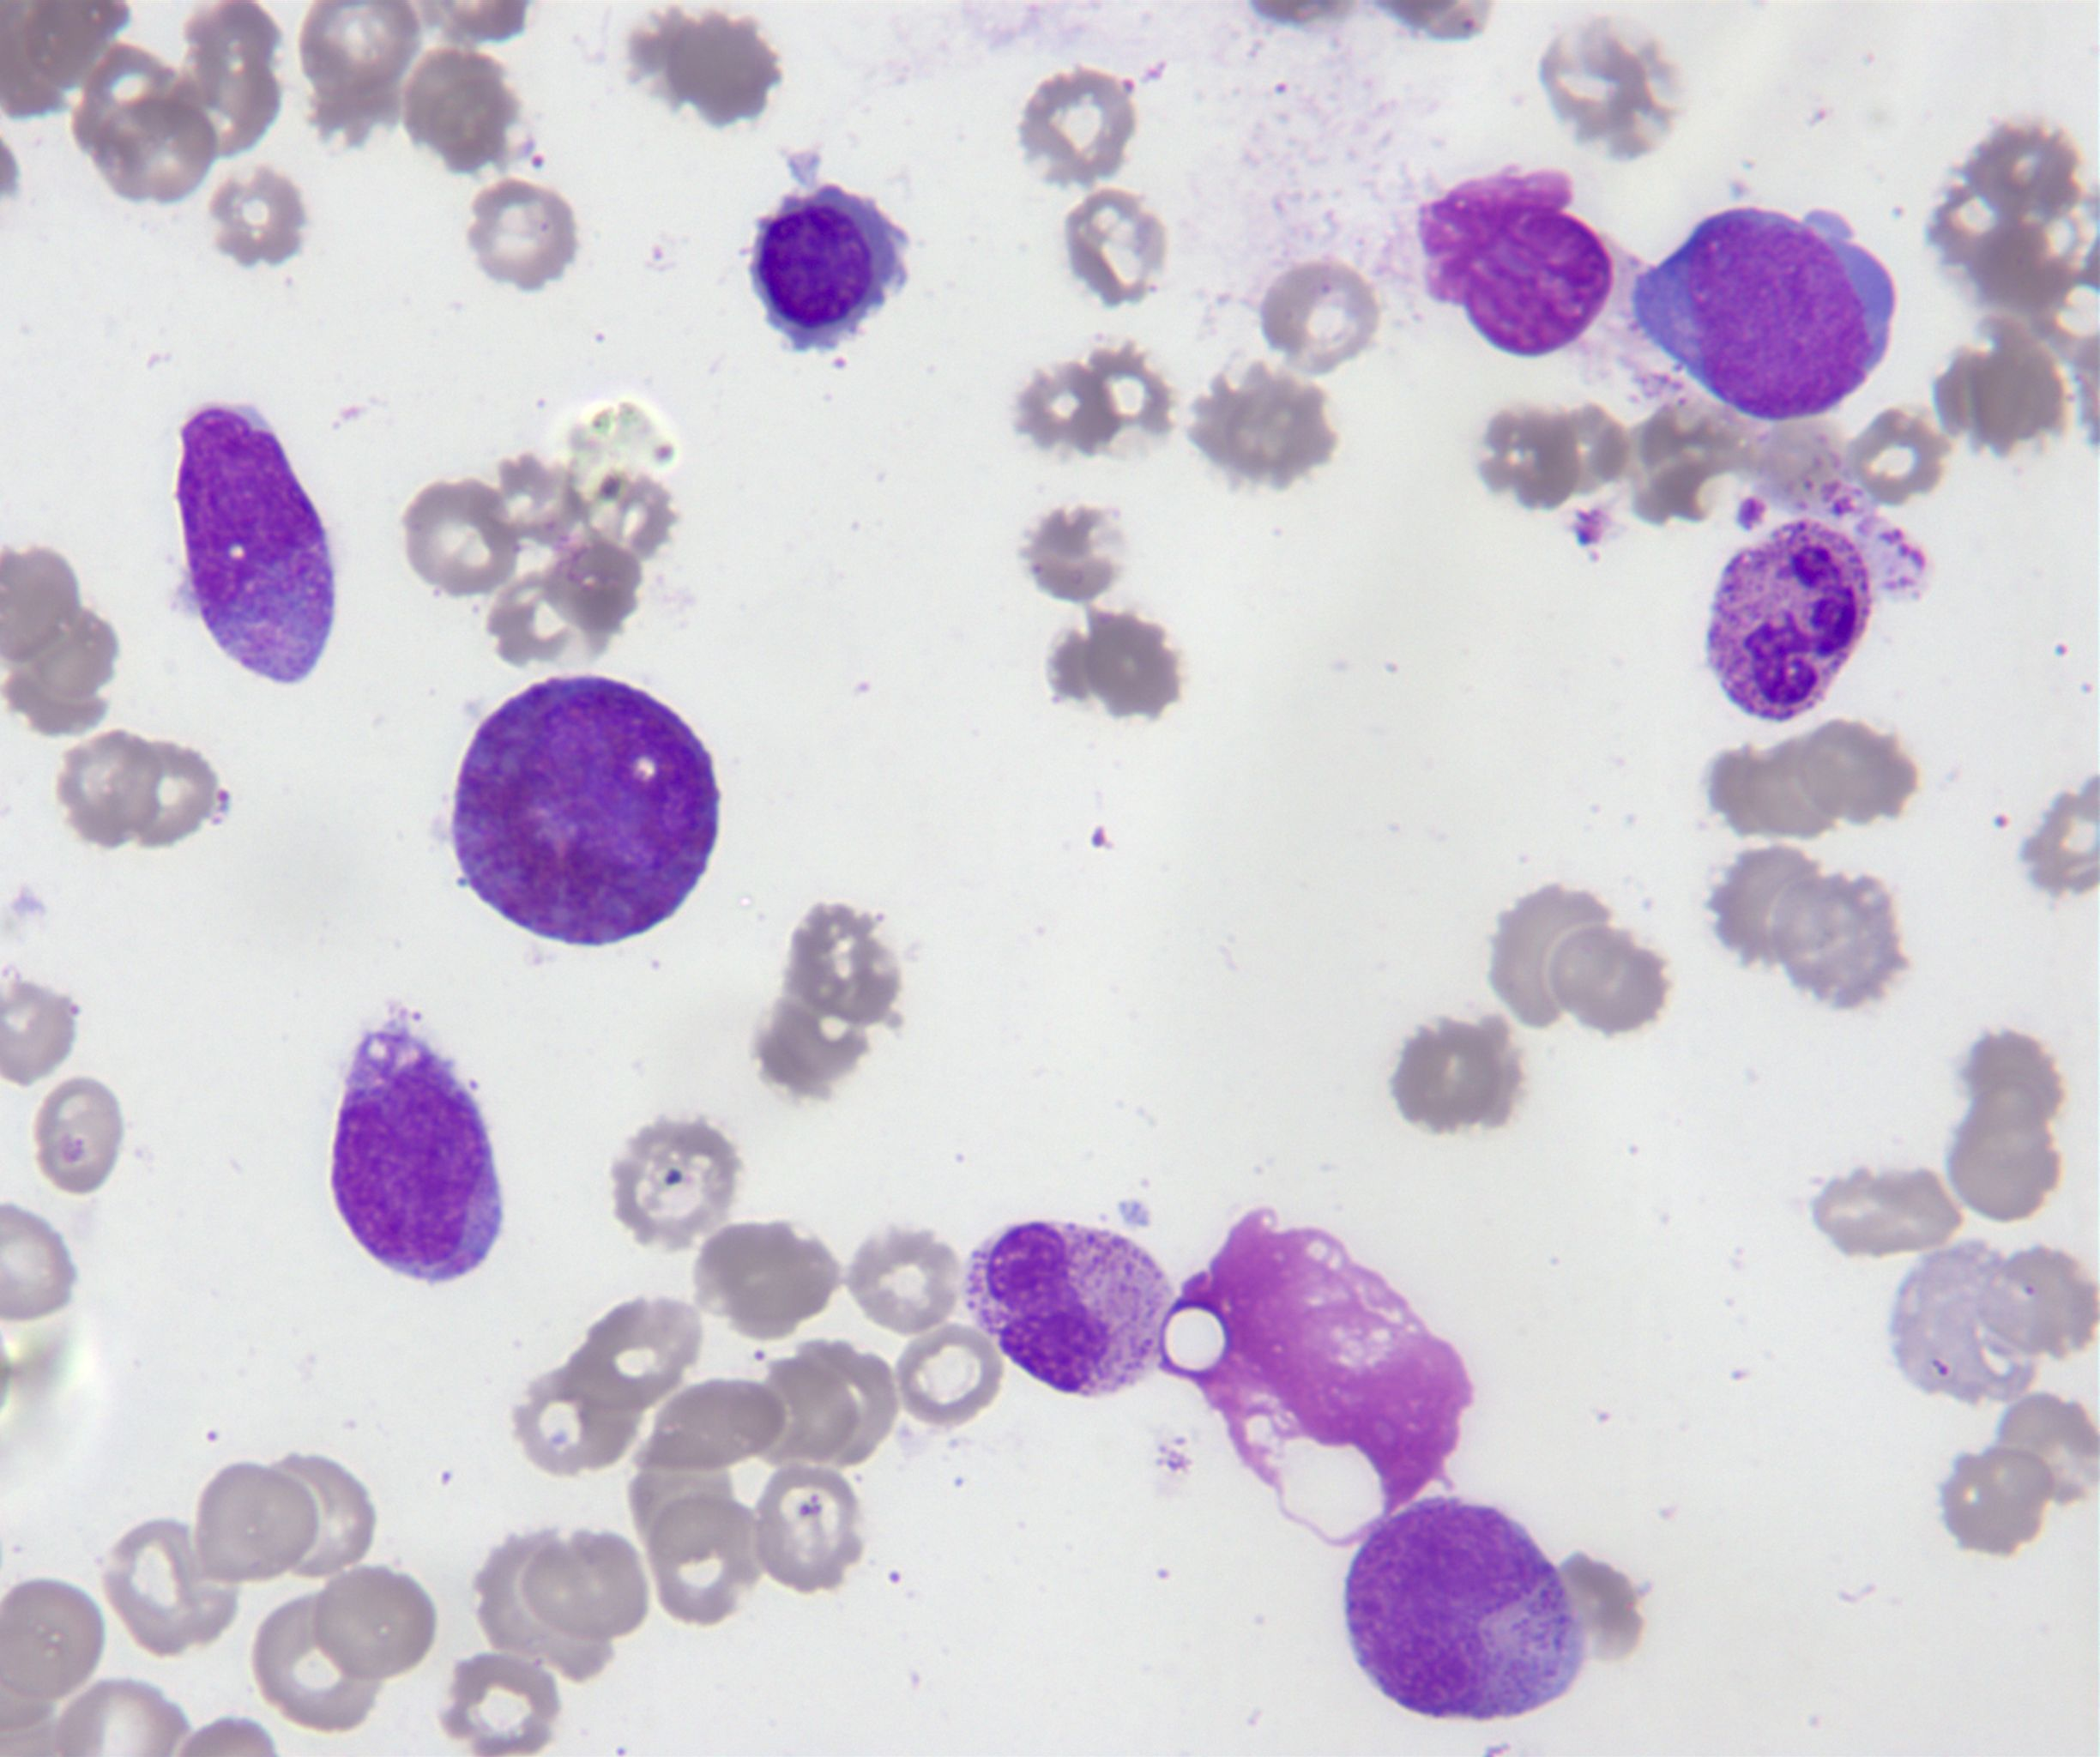22: (1622, 202, 1899, 427)
3: (1340, 1487, 1585, 1731)
42: (162, 396, 344, 691), (319, 1015, 513, 1289)
5: (952, 1211, 1179, 1405)
6: (1706, 515, 1882, 724)
E1: (443, 672, 722, 958)
